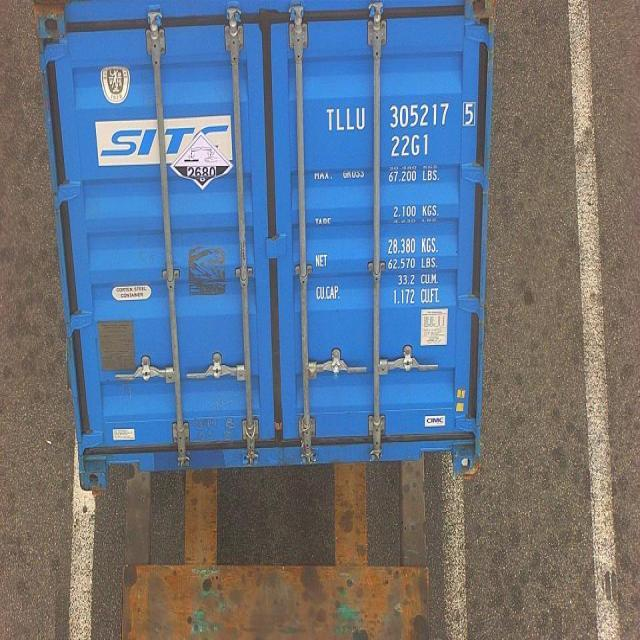ISO: (392, 134, 430, 158)
container_number: (328, 104, 476, 128)
